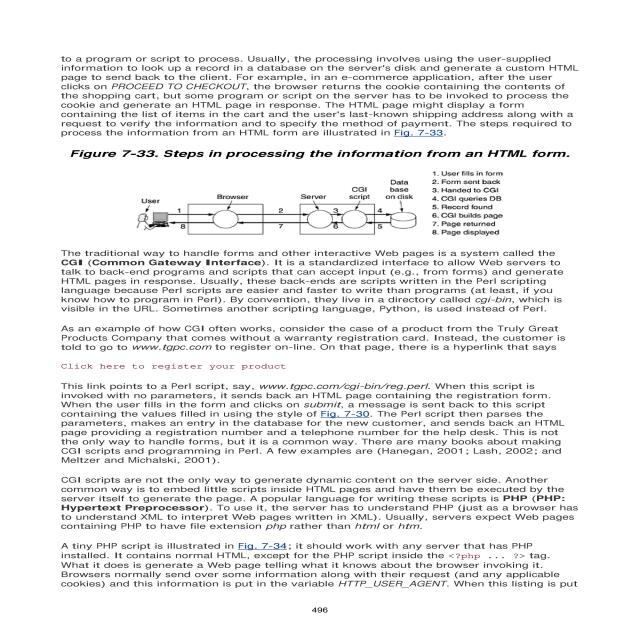diagram: (16, 140, 614, 243)
